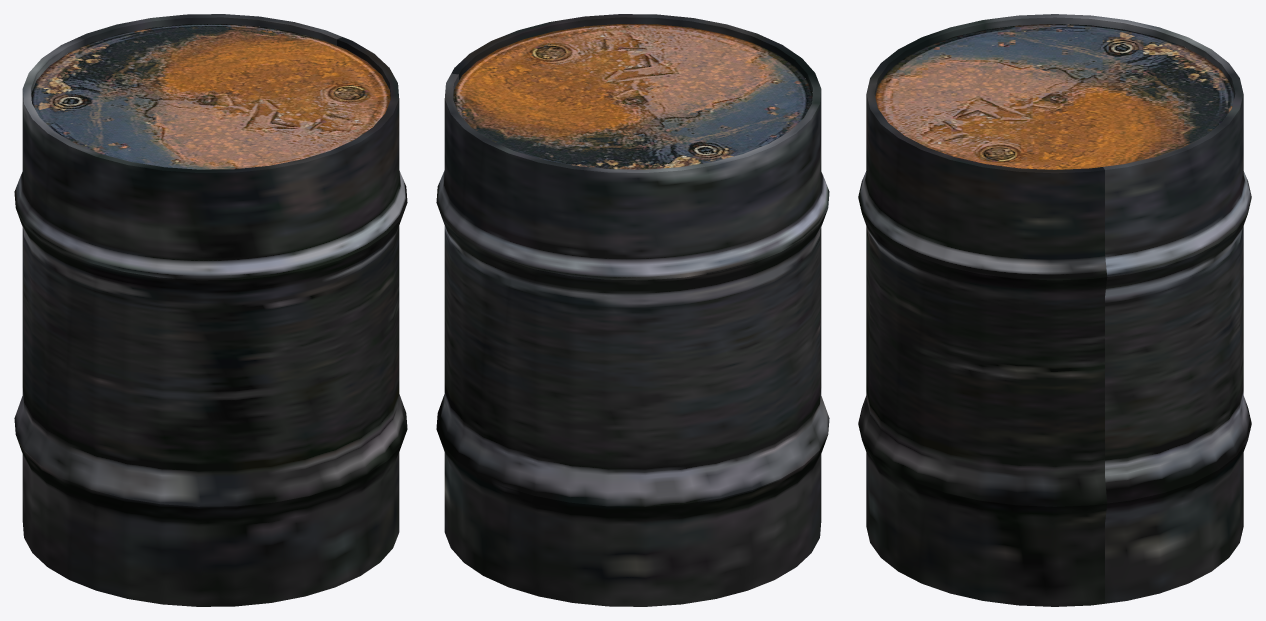
Rendered from barrel.glb.
3 views of the same model, side by side, from view 1: azimuth 30°, elevation 25°; view 2: azimuth 150°, elevation 25°; view 3: azimuth 270°, elevation 25° (orthographic).
Visible parts, largest first — view 1: Cylinder; view 2: Cylinder; view 3: Cylinder.
Part boxes in pixels (x1,y1,x2,y2): Cylinder: [14, 14, 407, 606]; Cylinder: [436, 14, 829, 606]; Cylinder: [858, 14, 1251, 606].
Size of the model in its own units: 1.43 by 1.74 by 1.43.
2 materials, 2 textured.
